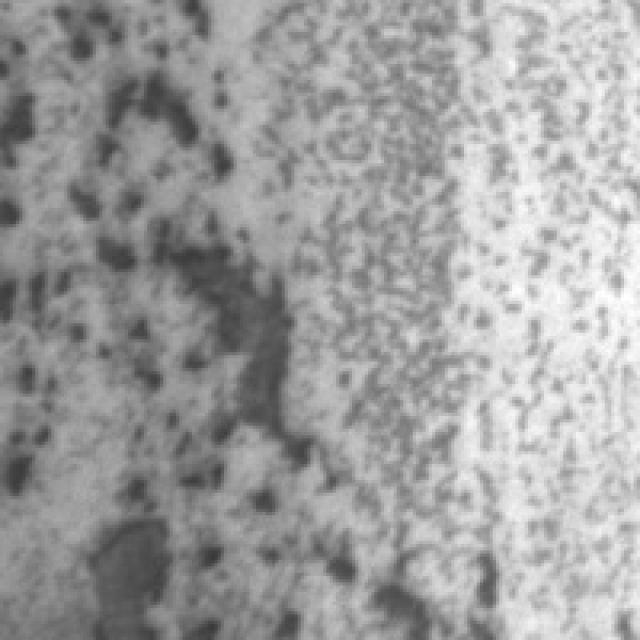patches: (176, 233, 326, 454), (93, 515, 189, 634)
pitted_surface: (298, 0, 640, 579), (3, 0, 307, 512)
